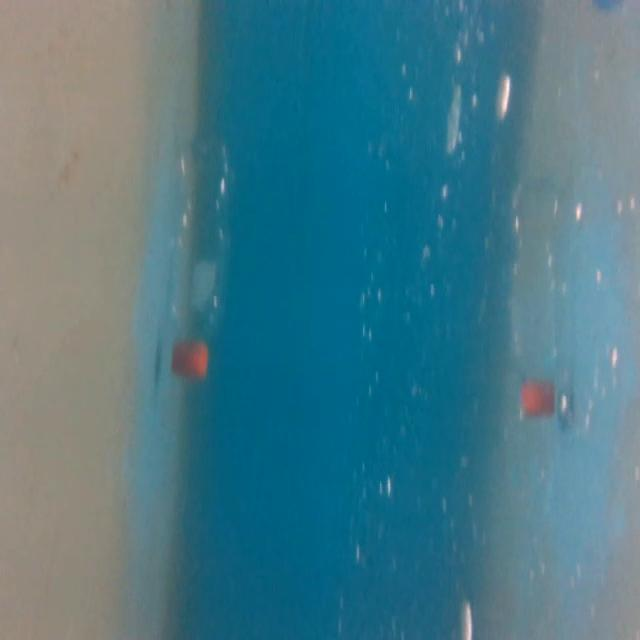plastic bottle: (164, 128, 235, 392)
